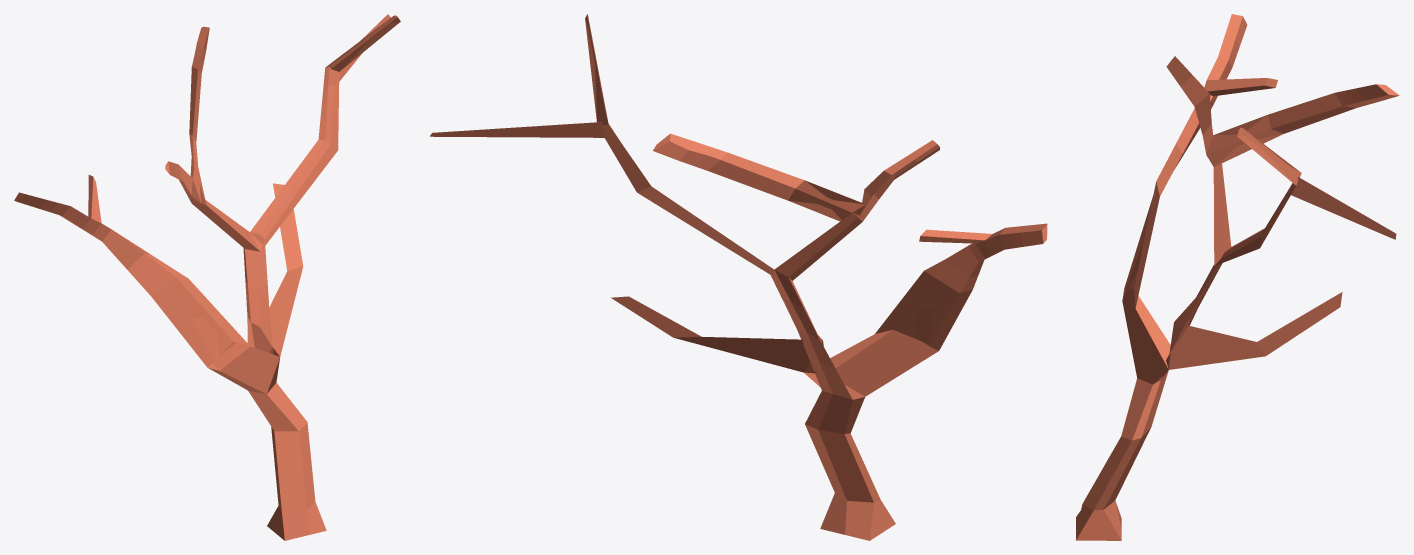
The model's file is Dead Tree.fbx.
3 views of the same model, side by side, from view 1: azimuth 30°, elevation 25°; view 2: azimuth 150°, elevation 25°; view 3: azimuth 270°, elevation 25° (orthographic). The views are drawn at different scales.
Parts seen in each view (by area): view 1: Cube; view 2: Cube; view 3: Cube.
Boxes of the visible parts, x1,y1,x2,y2 form: Cube: (14, 14, 400, 540); Cube: (430, 14, 1047, 540); Cube: (1076, 14, 1399, 540).
Bounding box in the file's own units: 5297 × 4913 × 2933.
